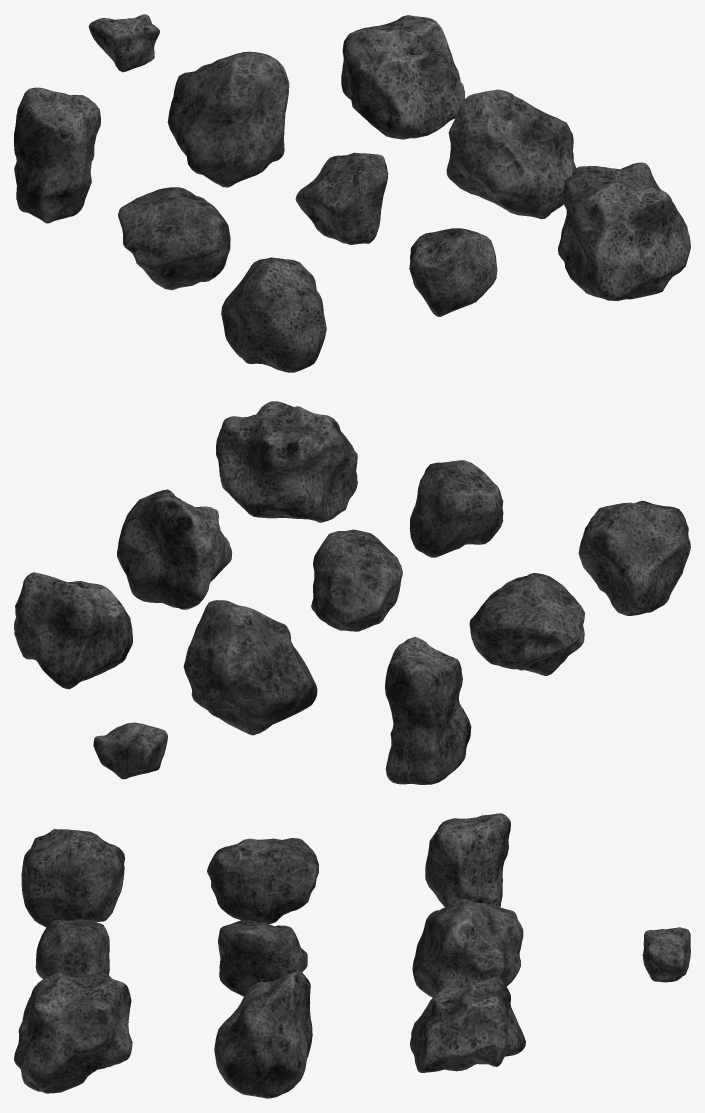
File: asteroid-high.glb
3 renders of one model, top to bottom at view 1: azimuth 30°, elevation 25°; view 2: azimuth 150°, elevation 25°; view 3: azimuth 270°, elevation 25°, orthographic. The views are drawn at different scales.
Parts seen in each view (by area): view 1: Asteroid_no_1_Material #3_0, Asteroid_no_8_Material #3_0, Asteroid_no_4_Material #3_0, Asteroid_no_7_Material #3_0, Asteroid_no_9_Material #3_0, Asteroid_no_3_Material #3_0, Asteroid_no_6_Material #3_0, Asteroid_no_5_Material #3_0, Asteroid_no_2_Material #3_0, Asteroid_no_10_Material #3_0; view 2: Asteroid_no_1_Material #3_0, Asteroid_no_8_Material #3_0, Asteroid_no_7_Material #3_0, Asteroid_no_9_Material #3_0, Asteroid_no_4_Material #3_0, Asteroid_no_3_Material #3_0, Asteroid_no_6_Material #3_0, Asteroid_no_5_Material #3_0, Asteroid_no_2_Material #3_0, Asteroid_no_10_Material #3_0; view 3: Asteroid_no_1_Material #3_0, Asteroid_no_4_Material #3_0, Asteroid_no_3_Material #3_0, Asteroid_no_8_Material #3_0, Asteroid_no_7_Material #3_0, Asteroid_no_6_Material #3_0, Asteroid_no_9_Material #3_0, Asteroid_no_5_Material #3_0, Asteroid_no_2_Material #3_0, Asteroid_no_10_Material #3_0.
Part boxes in pixels (x1=…): Asteroid_no_1_Material #3_0: x1=558, y1=162, x2=690, y2=301; Asteroid_no_8_Material #3_0: x1=167, y1=51, x2=289, y2=187; Asteroid_no_4_Material #3_0: x1=446, y1=89, x2=576, y2=219; Asteroid_no_7_Material #3_0: x1=341, y1=15, x2=464, y2=139; Asteroid_no_9_Material #3_0: x1=14, y1=87, x2=100, y2=223; Asteroid_no_3_Material #3_0: x1=221, y1=257, x2=326, y2=372; Asteroid_no_6_Material #3_0: x1=118, y1=187, x2=230, y2=290; Asteroid_no_5_Material #3_0: x1=295, y1=152, x2=388, y2=244; Asteroid_no_2_Material #3_0: x1=409, y1=228, x2=497, y2=316; Asteroid_no_10_Material #3_0: x1=88, y1=14, x2=159, y2=72; Asteroid_no_1_Material #3_0: x1=216, y1=401, x2=357, y2=522; Asteroid_no_8_Material #3_0: x1=183, y1=600, x2=317, y2=735; Asteroid_no_7_Material #3_0: x1=14, y1=572, x2=132, y2=689; Asteroid_no_9_Material #3_0: x1=385, y1=637, x2=471, y2=784; Asteroid_no_4_Material #3_0: x1=117, y1=489, x2=232, y2=609; Asteroid_no_3_Material #3_0: x1=578, y1=500, x2=690, y2=615; Asteroid_no_6_Material #3_0: x1=469, y1=573, x2=584, y2=675; Asteroid_no_5_Material #3_0: x1=311, y1=529, x2=402, y2=631; Asteroid_no_2_Material #3_0: x1=409, y1=460, x2=503, y2=557; Asteroid_no_10_Material #3_0: x1=93, y1=722, x2=167, y2=779; Asteroid_no_1_Material #3_0: x1=14, y1=972, x2=132, y2=1093; Asteroid_no_4_Material #3_0: x1=214, y1=971, x2=312, y2=1098; Asteroid_no_3_Material #3_0: x1=21, y1=829, x2=125, y2=927; Asteroid_no_8_Material #3_0: x1=412, y1=899, x2=523, y2=997; Asteroid_no_7_Material #3_0: x1=410, y1=977, x2=525, y2=1072; Asteroid_no_6_Material #3_0: x1=207, y1=838, x2=318, y2=923; Asteroid_no_9_Material #3_0: x1=425, y1=813, x2=510, y2=907; Asteroid_no_5_Material #3_0: x1=218, y1=920, x2=307, y2=996; Asteroid_no_2_Material #3_0: x1=35, y1=919, x2=109, y2=978; Asteroid_no_10_Material #3_0: x1=642, y1=927, x2=690, y2=982.
Size of the model in its own units: 34.3 by 9.09 by 48.14.
1 material, 1 textured.
